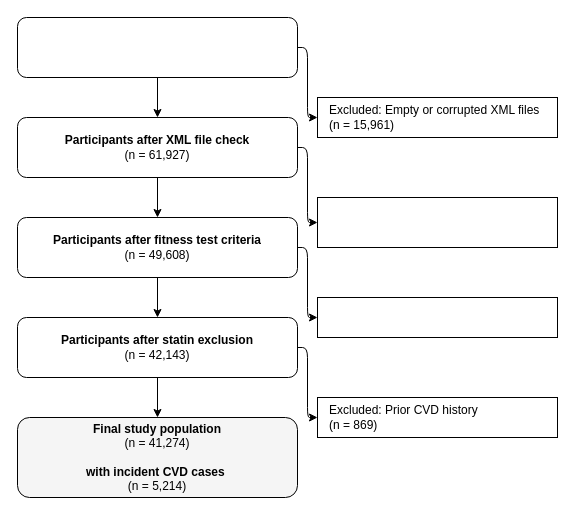
This 575x515 diagram has some shape labels left out. The shapes that lost their labels are listed below. From the top down, each one's centre as x and y in pixels, then its label:
At point (157, 47): "Initial participants with ECG XML files (n = 77,888)".
At point (437, 222): "Excluded: Incomplete fitness test or non-bicycle test participants (n = 12,319)".
At point (437, 317): "Excluded: Statin users (n = 7,465)".
